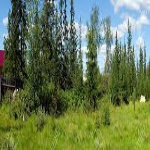Forest: (9, 2, 143, 110)
Uncultivated: (8, 98, 146, 150)
